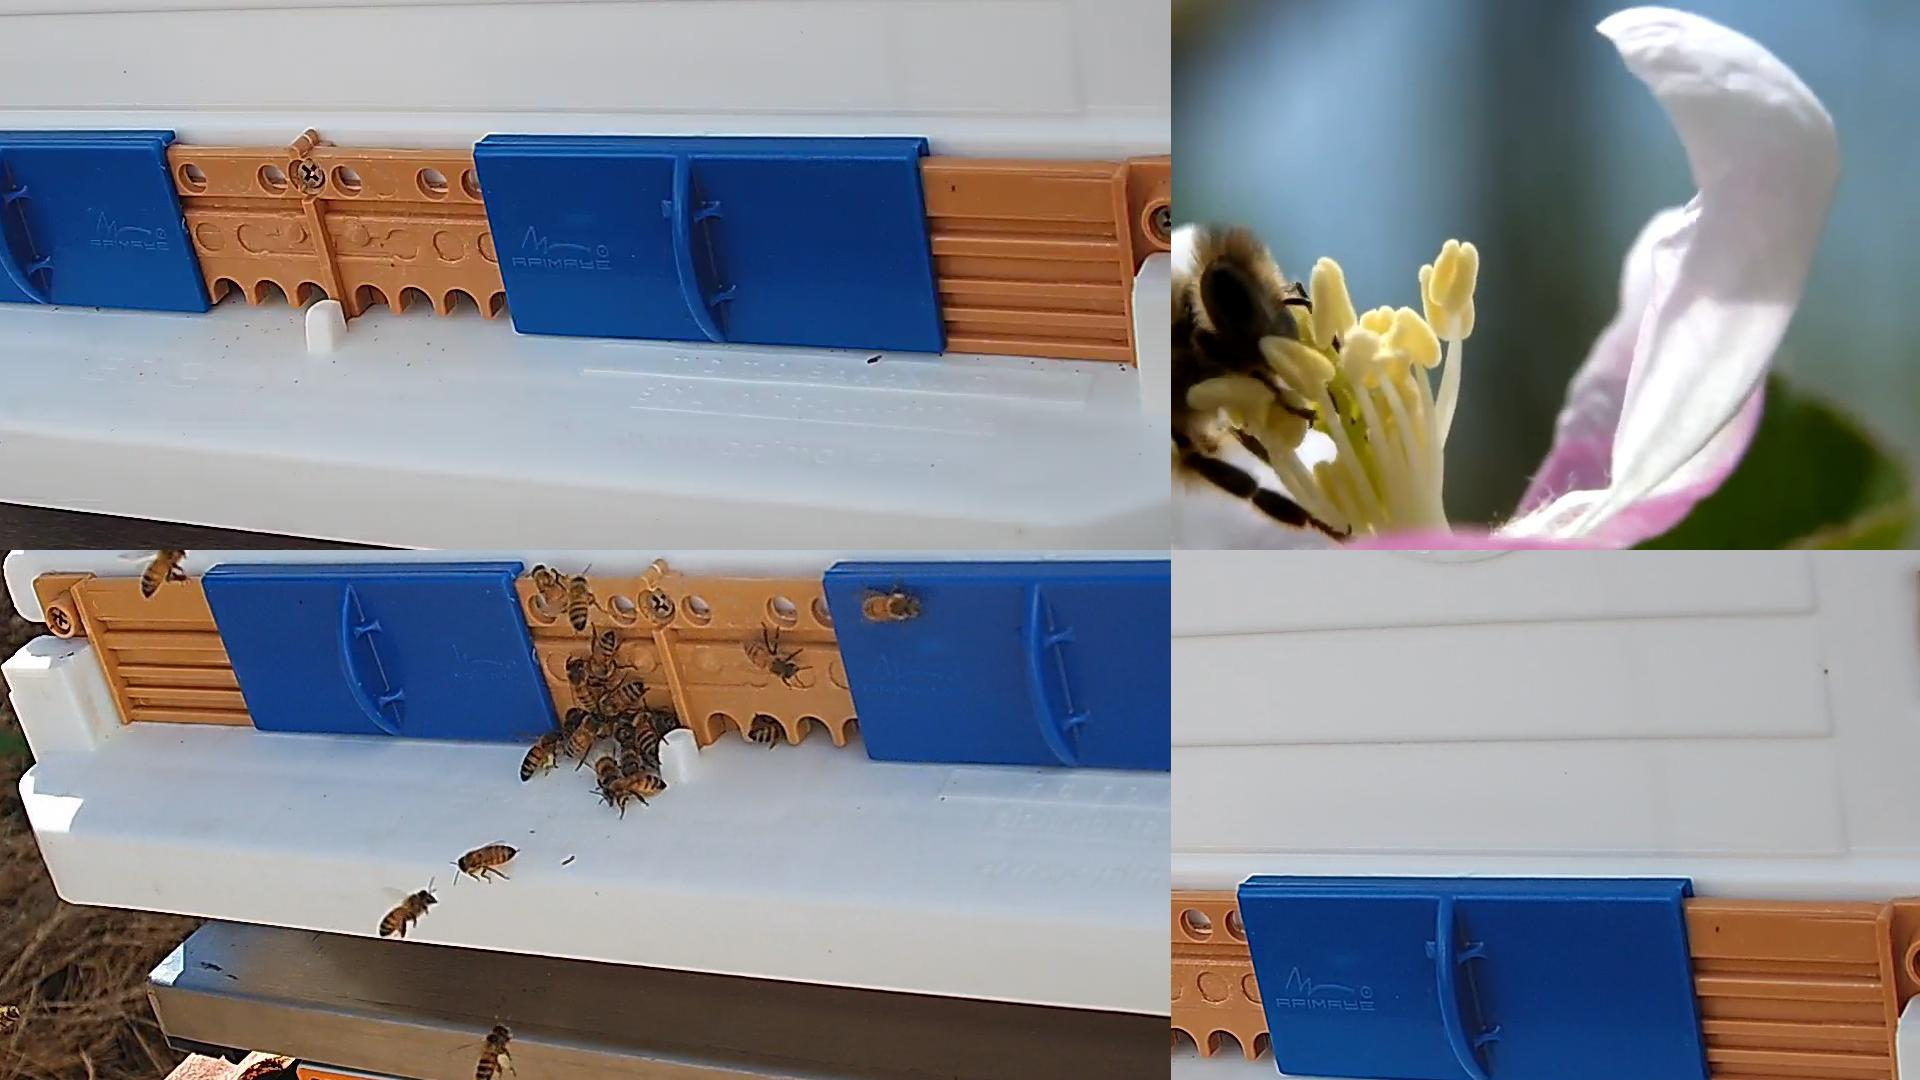bee: (1171, 225, 1294, 549), (377, 890, 438, 936), (141, 550, 187, 593), (564, 711, 605, 760), (458, 844, 517, 874), (605, 775, 670, 803), (745, 641, 795, 674), (567, 661, 597, 713), (534, 566, 567, 613), (603, 680, 646, 715), (864, 592, 919, 618), (749, 705, 783, 742), (593, 629, 617, 679), (636, 709, 661, 754), (568, 576, 588, 629), (596, 758, 620, 796), (621, 733, 642, 775), (0, 1002, 24, 1033)
pollenbee: (521, 729, 564, 781), (476, 1026, 510, 1079)
